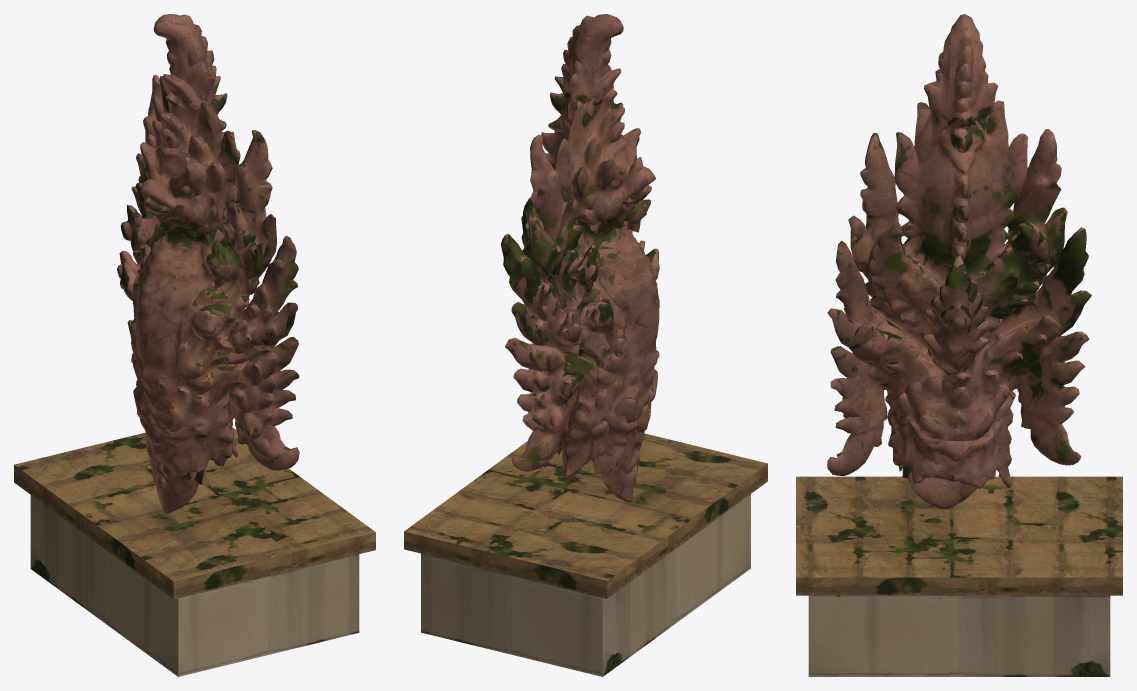
The model's file is GarudaGuardian.fbx.
3 renders of one model, left to right at view 1: azimuth 30°, elevation 25°; view 2: azimuth 150°, elevation 25°; view 3: azimuth 270°, elevation 25°, orthographic. The views are drawn at different scales.
Parts seen in each view (by area): view 1: GarudaGuardian_LOD0; view 2: GarudaGuardian_LOD0; view 3: GarudaGuardian_LOD0.
Part boxes in pixels (x1,y1,x2,y2): GarudaGuardian_LOD0: (14, 14, 375, 676); GarudaGuardian_LOD0: (404, 14, 767, 676); GarudaGuardian_LOD0: (796, 14, 1122, 676).
Size of what is drawn, in the model's own units: 1.9 by 5.3 by 2.6.
